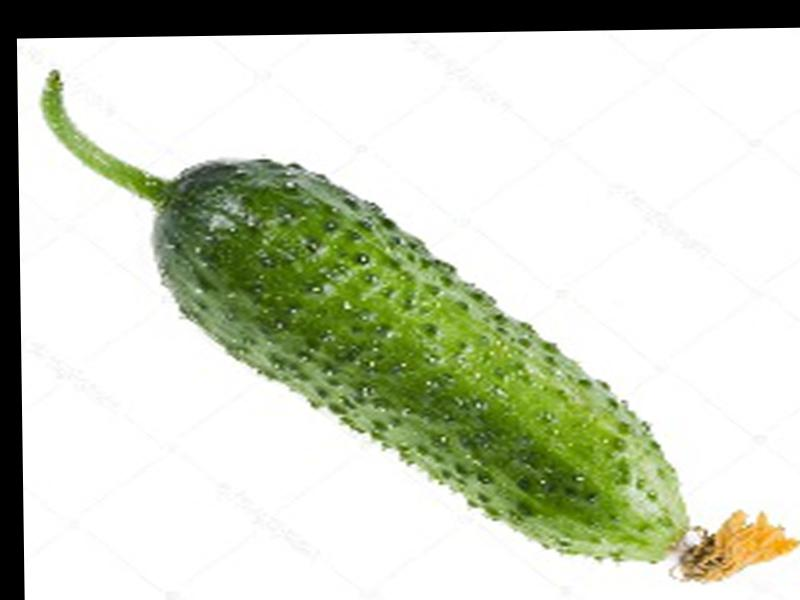Cucumber: (42, 64, 800, 592)
